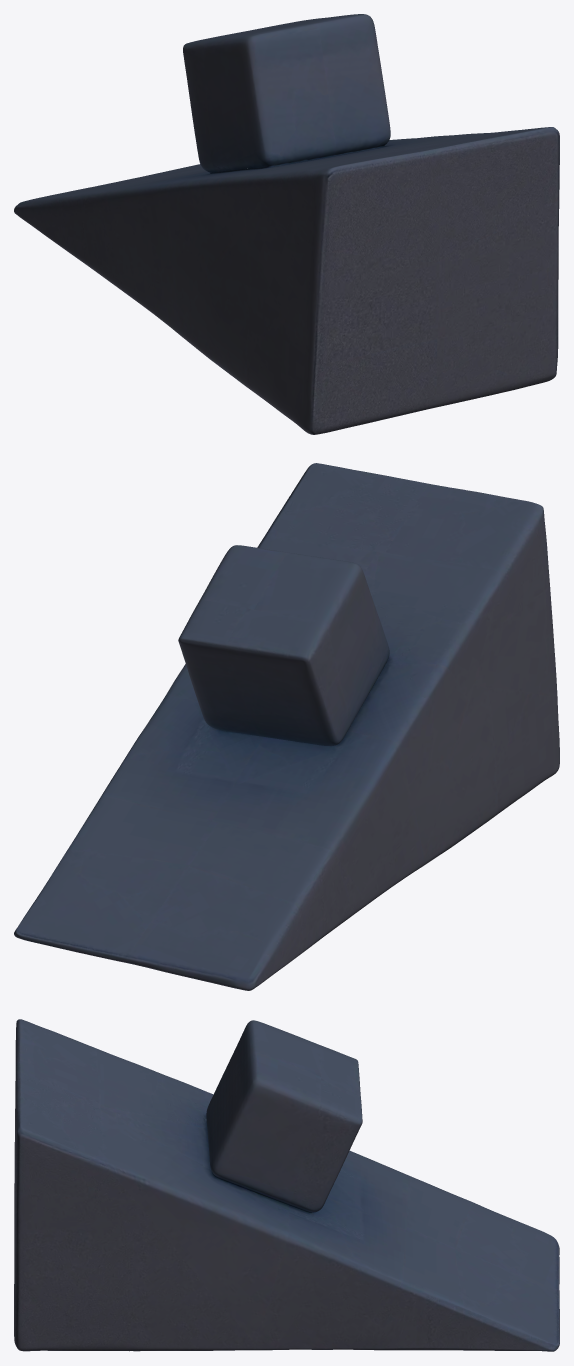
The model's file is inclined-plane.glb.
3 views of the same model, one above another, from view 1: azimuth 30°, elevation 25°; view 2: azimuth 150°, elevation 25°; view 3: azimuth 270°, elevation 25° (orthographic). The views are drawn at different scales.
Visible parts, largest first — view 1: tripo_node_5efff909-def0-4b73-a331-0bcaf78e4223; view 2: tripo_node_5efff909-def0-4b73-a331-0bcaf78e4223; view 3: tripo_node_5efff909-def0-4b73-a331-0bcaf78e4223.
Boxes of the visible parts, x1=… form: tripo_node_5efff909-def0-4b73-a331-0bcaf78e4223: x1=14, y1=14, x2=559, y2=434; tripo_node_5efff909-def0-4b73-a331-0bcaf78e4223: x1=14, y1=463, x2=559, y2=990; tripo_node_5efff909-def0-4b73-a331-0bcaf78e4223: x1=14, y1=1019, x2=559, y2=1351.
Size of the model in its own units: 0.4639 by 0.5105 by 0.9783.
Materials: 1 (1 with a texture image).
